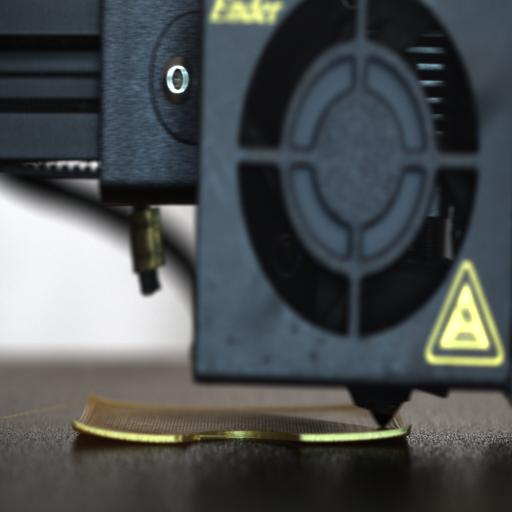warp: (391, 420, 418, 451), (70, 418, 94, 449)
